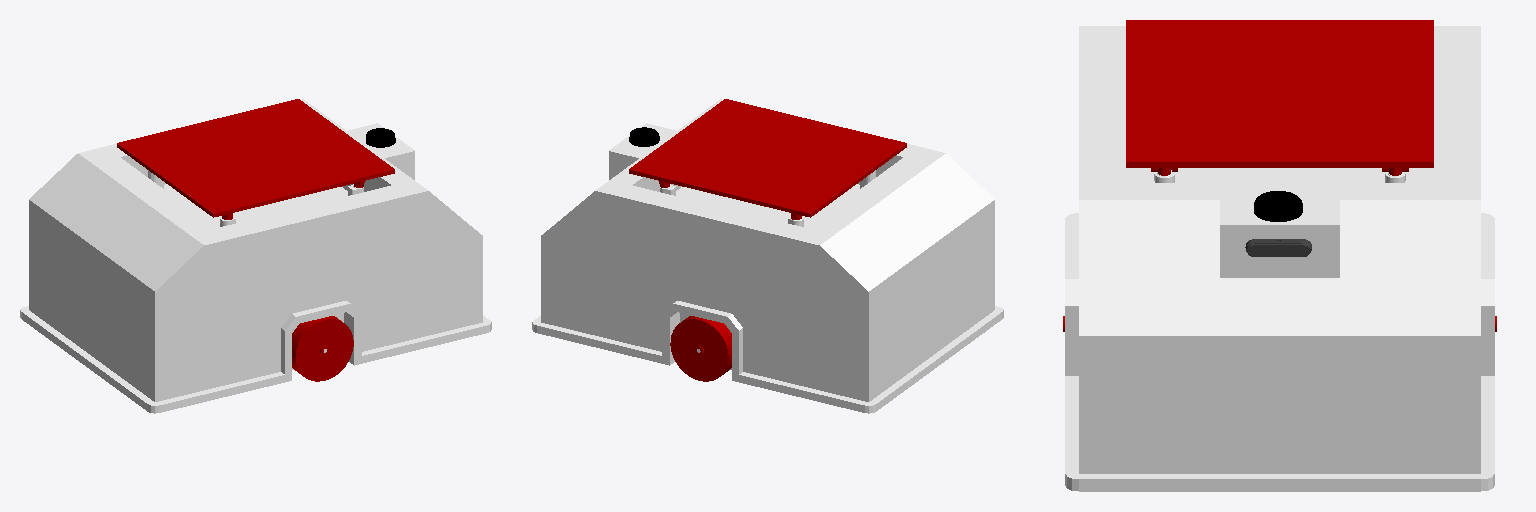
The robot description file, URDF, robot "polaris_v2":
<?xml version="1.0" encoding="utf-8"?>
<!-- This URDF was automatically created by SolidWorks to URDF Exporter! Originally created by [author] ([email redacted]) 
     Commit Version: 1.6.0-4-g7f85cfe  Build Version: 1.6.7995.38578
     For more information, please see http://wiki.ros.org/sw_urdf_exporter -->
<robot name="polaris_v2">
  <link name="base_link">
    <inertial>
      <origin xyz="-0.0015058 3.8814E-06 -0.021658" rpy="0 0 0" />
      <mass value="42.453" />
      <inertia
        ixx="2.349"
        ixy="-1.8915E-05"
        ixz="0.019247"
        iyy="3.7739"
        iyz="-1.7304E-13"
        izz="5.1007" />
    </inertial>
    <visual>
      <origin xyz="0 0 0" rpy="0 0 0" />
      <geometry>
        <mesh filename="package://polaris_v2/meshes/base_link.STL" />
      </geometry>
      <material name="White">
        <color rgba="1 1 1 1" />
      </material>
    </visual>
    <collision>
      <origin xyz="0 0 0" rpy="0 0 0" />
      <geometry>
        <mesh filename="package://polaris_v2/meshes/base_link.STL" />
      </geometry>
    </collision>
  </link>
  
  <link
    name="Lidar_Link">
    <inertial>
      <origin xyz="-0.029667 -6.8075E-05 0.0013582" rpy="0 0 0" />
      <mass value="0.055329" />
      <inertia
        ixx="1.8044E-05"
        ixy="3.8843E-08"
        ixz="-2.5259E-07"
        iyy="1.772E-05"
        iyz="-4.9929E-09"
        izz="3.2968E-05" />
    </inertial>
    <visual>
      <origin xyz="0 0 0" rpy="0 0 0" />
      <geometry>
        <mesh filename="package://polaris_v2/meshes/Lidar_Link.STL" />
      </geometry>
      <material name="Black">
        <color rgba="0 0 0 1" />
      </material>
    </visual>
    <collision>
      <origin xyz="0 0 0" rpy="0 0 0" />
      <geometry>
        <mesh filename="package://polaris_v2/meshes/Lidar_Link.STL" />
      </geometry>
    </collision>
  </link>
  <joint name="Lidar_Joint" type="fixed">
    <origin xyz="0.369 -0.0024957 0.20243" rpy="0 0 0" />
    <parent link="base_link" />
    <child link="Lidar_Link" />
    <axis xyz="0 0 0" />
  </joint>
  
  <link name="Camera_Link">
    <inertial>
      <origin xyz="-0.010371 -5.6426E-05 0.00029524" rpy="0 0 0" />
      <mass value="0.041708" />
      <inertia
        ixx="3.212E-05"
        ixy="6.2185E-09"
        ixz="-3.4137E-08"
        iyy="2.8235E-06"
        iyz="1.424E-08"
        izz="3.1609E-05" />
    </inertial>
    <visual>
      <origin xyz="0 0 0" rpy="0 0 0" />
      <geometry>
        <mesh filename="package://polaris_v2/meshes/Camera_Link.STL" />
      </geometry>
      <material name="Gray">
        <color rgba="0.29804 0.29804 0.29804 1" />
      </material>
    </visual>
    <collision>
      <origin xyz="0 0 0" rpy="0 0 0" />
      <geometry>
        <mesh filename="package://polaris_v2/meshes/Camera_Link.STL" />
      </geometry>
    </collision>
  </link>
  <joint name="Camera_Joint" type="fixed">
    <origin xyz="0.40728 -0.0018421 0.15651" rpy="0 0 0" />
    <parent link="base_link" />
    <child link="Camera_Link" />
    <axis xyz="0 0 0" />
  </joint>
  
  <link
    name="Left_Wheel_Link">
    <inertial>
      <origin
        xyz="-5.5511E-17 0 -2.0177E-06"
        rpy="0 0 0" />
      <mass
        value="1.9591" />
      <inertia
        ixx="0.0031213"
        ixy="1.516E-19"
        ixz="1.5917E-20"
        iyy="0.005714"
        iyz="2.081E-19"
        izz="0.0031213" />
    </inertial>
    <visual>
      <origin
        xyz="0 0 0"
        rpy="0 0 0" />
      <geometry>
        <mesh
          filename="package://polaris_v2/meshes/Left_Wheel_Link.STL" />
      </geometry>
      <material
        name="Red">
        <color
          rgba="0.75 0 0 1" />
      </material>
    </visual>
    <collision>
      <origin
        xyz="0 0 0"
        rpy="0 0 0" />
      <geometry>
        <mesh
          filename="package://polaris_v2/meshes/Left_Wheel_Link.STL" />
      </geometry>
    </collision>
  </link>
  <joint
    name="Left_Wheel_Joint"
    type="continuous">
    <origin
      xyz="0.0048092 0.29918 -0.15052"
      rpy="0 0 0" />
    <parent
      link="base_link" />
    <child
      link="Left_Wheel_Link" />
    <axis
      xyz="0 1 0" />
    <limit
      effort="20"
      velocity="15" />
    <dynamics
      damping="0.2"
      friction="0.2" />
  </joint>
  <link
    name="Right_Wheel_Link">
    <inertial>
      <origin
        xyz="5.5511E-17 0 -2.0177E-06"
        rpy="0 0 0" />
      <mass
        value="1.9591" />
      <inertia
        ixx="0.0031213"
        ixy="3.0227E-19"
        ixz="7.3953E-20"
        iyy="0.005714"
        iyz="7.1477E-19"
        izz="0.0031213" />
    </inertial>
    <visual>
      <origin
        xyz="0 0 0"
        rpy="0 0 0" />
      <geometry>
        <mesh
          filename="package://polaris_v2/meshes/Right_Wheel_Link.STL" />
      </geometry>
      <material
        name="Red">
        <color
          rgba="0.75 0 0 1" />
      </material>
    </visual>
    <collision>
      <origin
        xyz="0 0 0"
        rpy="0 0 0" />
      <geometry>
        <mesh
          filename="package://polaris_v2/meshes/Right_Wheel_Link.STL" />
      </geometry>
    </collision>
  </link>
  <joint
    name="Right_Wheel_Joint"
    type="continuous">
    <origin
      xyz="0.0051558 -0.29918 -0.15052"
      rpy="0 0 0" />
    <parent
      link="base_link" />
    <child
      link="Right_Wheel_Link" />
    <axis
      xyz="0 1 0" />
    <limit
      effort="20"
      velocity="1" />
    <dynamics
      damping="0.2"
      friction="0.2" />
  </joint>
  <link
    name="Lifting_Link">
    <inertial>
      <origin
        xyz="-8.9045E-13 -4.6074E-15 -0.019872"
        rpy="0 0 0" />
      <mass
        value="7.1663" />
      <inertia
        ixx="0.11259"
        ixy="6.0508E-07"
        ixz="-2.1825E-18"
        iyy="0.13245"
        iyz="3.3719E-17"
        izz="0.23898" />
    </inertial>
    <visual>
      <origin
        xyz="0 0 0"
        rpy="0 0 0" />
      <geometry>
        <mesh
          filename="package://polaris_v2/meshes/Lifting_Link.STL" />
      </geometry>
      <material
        name="Red">
        <color
          rgba="0.75 0 0 1" />
      </material>
    </visual>
    <collision>
      <origin
        xyz="0 0 0"
        rpy="0 0 0" />
      <geometry>
        <mesh
          filename="package://polaris_v2/meshes/Lifting_Link.STL" />
      </geometry>
    </collision>
  </link>
  <joint
    name="Lifting_Joint"
    type="prismatic">
    <origin
      xyz="0.0012405 0 0.23032"
      rpy="0 0 0" />
    <parent
      link="base_link" />
    <child
      link="Lifting_Link" />
    <axis
      xyz="0 0 1" />
    <limit
      lower="0"
      upper="0.2"
      effort="20"
      velocity="15" />
    <dynamics
      damping="0.2"
      friction="0.2" />
  </joint>
  <link
    name="CS1L">
    <inertial>
      <origin
        xyz="-0.0010118 -2.0245E-05 -0.0079289"
        rpy="0 0 0" />
      <mass
        value="0.012201" />
      <inertia
        ixx="1.3562E-06"
        ixy="1.3591E-08"
        ixz="7.1177E-08"
        iyy="6.7418E-07"
        iyz="1.4266E-09"
        izz="1.6594E-06" />
    </inertial>
    <visual>
      <origin
        xyz="0 0 0"
        rpy="0 0 0" />
      <geometry>
        <mesh
          filename="package://polaris_v2/meshes/CS1L.STL" />
      </geometry>
      <material
        name="Gray">
        <color
          rgba="0.89804 0.91765 0.92941 1" />
      </material>
    </visual>
    <collision>
      <origin
        xyz="0 0 0"
        rpy="0 0 0" />
      <geometry>
        <mesh
          filename="package://polaris_v2/meshes/CS1L.STL" />
      </geometry>
    </collision>
  </link>
  <joint
    name="CS1J"
    type="continuous">
    <origin
      xyz="0.38374 -0.2125 -0.19774"
      rpy="0 0 0" />
    <parent
      link="base_link" />
    <child
      link="CS1L" />
    <axis
      xyz="0 0 1" />
    <limit
      effort="20"
      velocity="15" />
    <dynamics
      damping="0.2"
      friction="0" />
  </joint>
  <link
    name="CW1L">
    <inertial>
      <origin
        xyz="-1.1102E-16 0 0"
        rpy="0 0 0" />
      <mass
        value="0.007684" />
      <inertia
        ixx="5.0437E-07"
        ixy="-1.7782E-09"
        ixz="7.051E-23"
        iyy="5.936E-07"
        iyz="9.8743E-24"
        izz="5.0433E-07" />
    </inertial>
    <visual>
      <origin
        xyz="0 0 0"
        rpy="0 0 0" />
      <geometry>
        <mesh
          filename="package://polaris_v2/meshes/CW1L.STL" />
      </geometry>
      <material
        name="Black">
        <color
          rgba="0 0 0 1" />
      </material>
    </visual>
    <collision>
      <origin
        xyz="0 0 0"
        rpy="0 0 0" />
      <geometry>
        <mesh
          filename="package://polaris_v2/meshes/CW1L.STL" />
      </geometry>
    </collision>
  </link>
  <joint
    name="CW1J"
    type="continuous">
    <origin
      xyz="0.0072628 0.00064477 -0.020775"
      rpy="0 0 0" />
    <parent
      link="CS1L" />
    <child
      link="CW1L" />
    <axis
      xyz="0 1 0" />
    <limit
      effort="20"
      velocity="15" />
    <dynamics
      damping="0.2"
      friction="0" />
  </joint>
  <link
    name="CS2L">
    <inertial>
      <origin
        xyz="0.00098381 -0.00023721 -0.0079289"
        rpy="0 0 0" />
      <mass
        value="0.012201" />
      <inertia
        ixx="1.319E-06"
        ixy="-1.556E-07"
        ixz="-6.9208E-08"
        iyy="7.1144E-07"
        iyz="1.6685E-08"
        izz="1.6594E-06" />
    </inertial>
    <visual>
      <origin
        xyz="0 0 0"
        rpy="0 0 0" />
      <geometry>
        <mesh
          filename="package://polaris_v2/meshes/CS2L.STL" />
      </geometry>
      <material
        name="Gray">
        <color
          rgba="0.89804 0.91765 0.92941 1" />
      </material>
    </visual>
    <collision>
      <origin
        xyz="0 0 0"
        rpy="0 0 0" />
      <geometry>
        <mesh
          filename="package://polaris_v2/meshes/CS2L.STL" />
      </geometry>
    </collision>
  </link>
  <joint
    name="CS2J"
    type="continuous">
    <origin
      xyz="0.38374 0.2125 -0.19774"
      rpy="0 0 0" />
    <parent
      link="base_link" />
    <child
      link="CS2L" />
    <axis
      xyz="0 0 1" />
    <limit
      effort="20"
      velocity="15" />
    <dynamics
      damping="0.2"
      friction="0" />
  </joint>
  <link
    name="CW2L">
    <inertial>
      <origin
        xyz="0 0 -5.5511E-17"
        rpy="0 0 0" />
      <mass
        value="0.007684" />
      <inertia
        ixx="5.0924E-07"
        ixy="2.0356E-08"
        ixz="-1.3859E-23"
        iyy="5.8873E-07"
        iyz="2.9859E-23"
        izz="5.0433E-07" />
    </inertial>
    <visual>
      <origin
        xyz="0 0 0"
        rpy="0 0 0" />
      <geometry>
        <mesh
          filename="package://polaris_v2/meshes/CW2L.STL" />
      </geometry>
      <material
        name="Black">
        <color
          rgba="0 0 0 1" />
      </material>
    </visual>
    <collision>
      <origin
        xyz="0 0 0"
        rpy="0 0 0" />
      <geometry>
        <mesh
          filename="package://polaris_v2/meshes/CW2L.STL" />
      </geometry>
    </collision>
  </link>
  <joint
    name="CW2J"
    type="continuous">
    <origin
      xyz="-0.0071887 0.0012196 -0.020775"
      rpy="0 0 0" />
    <parent
      link="CS2L" />
    <child
      link="CW2L" />
    <axis
      xyz="0 1 0" />
    <limit
      effort="20"
      velocity="15" />
    <dynamics
      damping="0.2"
      friction="0" />
  </joint>
  <link
    name="CS3L">
    <inertial>
      <origin
        xyz="-0.0010067 0.00010308 -0.0079289"
        rpy="0 0 0" />
      <mass
        value="0.012201" />
      <inertia
        ixx="1.3494E-06"
        ixy="-6.9225E-08"
        ixz="7.0821E-08"
        iyy="6.81E-07"
        iyz="-7.2487E-09"
        izz="1.6594E-06" />
    </inertial>
    <visual>
      <origin
        xyz="0 0 0"
        rpy="0 0 0" />
      <geometry>
        <mesh
          filename="package://polaris_v2/meshes/CS3L.STL" />
      </geometry>
      <material
        name="Gray">
        <color
          rgba="0.89804 0.91765 0.92941 1" />
      </material>
    </visual>
    <collision>
      <origin
        xyz="0 0 0"
        rpy="0 0 0" />
      <geometry>
        <mesh
          filename="package://polaris_v2/meshes/CS3L.STL" />
      </geometry>
    </collision>
  </link>
  <joint
    name="CS3J"
    type="continuous">
    <origin
      xyz="-0.38126 -0.2125 -0.19774"
      rpy="0 0 0" />
    <parent
      link="base_link" />
    <child
      link="CS3L" />
    <axis
      xyz="0 0 1" />
    <limit
      effort="20"
      velocity="15" />
    <dynamics
      damping="0.2"
      friction="0" />
  </joint>
  <link
    name="CW3L">
    <inertial>
      <origin
        xyz="-1.7347E-18 0 0"
        rpy="0 0 0" />
      <mass
        value="0.007684" />
      <inertia
        ixx="5.0526E-07"
        ixy="9.0562E-09"
        ixz="5.9133E-23"
        iyy="5.9271E-07"
        iyz="1.0492E-23"
        izz="5.0433E-07" />
    </inertial>
    <visual>
      <origin
        xyz="0 0 0"
        rpy="0 0 0" />
      <geometry>
        <mesh
          filename="package://polaris_v2/meshes/CW3L.STL" />
      </geometry>
      <material
        name="Black">
        <color
          rgba="0 0 0 1" />
      </material>
    </visual>
    <collision>
      <origin
        xyz="0 0 0"
        rpy="0 0 0" />
      <geometry>
        <mesh
          filename="package://polaris_v2/meshes/CW3L.STL" />
      </geometry>
    </collision>
  </link>
  <joint
    name="CW3J"
    type="continuous">
    <origin
      xyz="0.0072873 -0.00024416 -0.020775"
      rpy="0 0 0" />
    <parent
      link="CS3L" />
    <child
      link="CW3L" />
    <axis
      xyz="0 1 0" />
    <limit
      effort="20"
      velocity="15" />
    <dynamics
      damping="0.2"
      friction="0" />
  </joint>
  <link
    name="CS4L">
    <inertial>
      <origin
        xyz="-0.0010114 3.4348E-05 -0.0079289"
        rpy="0 0 0" />
      <mass
        value="0.012201" />
      <inertia
        ixx="1.3557E-06"
        ixy="-2.3217E-08"
        ixz="7.115E-08"
        iyy="6.747E-07"
        iyz="-2.4138E-09"
        izz="1.6594E-06" />
    </inertial>
    <visual>
      <origin
        xyz="0 0 0"
        rpy="0 0 0" />
      <geometry>
        <mesh
          filename="package://polaris_v2/meshes/CS4L.STL" />
      </geometry>
      <material
        name="Gray">
        <color
          rgba="0.89804 0.91765 0.92941 1" />
      </material>
    </visual>
    <collision>
      <origin
        xyz="0 0 0"
        rpy="0 0 0" />
      <geometry>
        <mesh
          filename="package://polaris_v2/meshes/CS4L.STL" />
      </geometry>
    </collision>
  </link>
  <joint
    name="CS4J"
    type="continuous">
    <origin
      xyz="-0.38126 0.2125 -0.19774"
      rpy="0 0 0" />
    <parent
      link="base_link" />
    <child
      link="CS4L" />
    <axis
      xyz="0 0 1" />
    <limit
      effort="20"
      velocity="15" />
    <dynamics
      damping="0.2"
      friction="0" />
  </joint>
  <link
    name="CW4L">
    <inertial>
      <origin
        xyz="0 0 -5.5511E-17"
        rpy="0 0 0" />
      <mass
        value="0.007684" />
      <inertia
        ixx="5.0444E-07"
        ixy="3.0371E-09"
        ixz="2.0261E-23"
        iyy="5.9353E-07"
        iyz="-1.5601E-24"
        izz="5.0433E-07" />
    </inertial>
    <visual>
      <origin
        xyz="0 0 0"
        rpy="0 0 0" />
      <geometry>
        <mesh
          filename="package://polaris_v2/meshes/CW4L.STL" />
      </geometry>
      <material
        name="Black">
        <color
          rgba="0 0 0 1" />
      </material>
    </visual>
    <collision>
      <origin
        xyz="0 0 0"
        rpy="0 0 0" />
      <geometry>
        <mesh
          filename="package://polaris_v2/meshes/CW4L.STL" />
      </geometry>
    </collision>
  </link>
  <joint
    name="CW4J"
    type="continuous">
    <origin
      xyz="0.007287 0.00025217 -0.020775"
      rpy="0 0 0" />
    <parent
      link="CS4L" />
    <child
      link="CW4L" />
    <axis
      xyz="0 1 0" />
    <limit
      effort="20"
      velocity="15" />
    <dynamics
      damping="0.2"
      friction="0" />
  </joint>
  
  <transmission name="Lifting_Link_trans">
    <type>transmission_interface/SimpleTransmission</type>
    <joint name="Lifting_Joint">
      <hardwareInterface>hardware_interface/PositionJointInterface</hardwareInterface>
    </joint>
    <actuator name="Lifting_Link_motor">
      <hardwareInterface>hardware_interface/PositionJointInterface</hardwareInterface>
      <mechanicalReduction>1</mechanicalReduction>
      <!-- Lineer motor için eklenebilecek parametreler -->
      <max_force>100</max_force>
      <max_velocity>0.5</max_velocity>
    </actuator>  
  </transmission>
  
  <gazebo>
    <plugin name="gazebo_ros_control" filename="libgazebo_ros_control.so">
      <robotNamespace>/</robotNamespace>
    </plugin>
  </gazebo>

  <!--Gazebo ortamında color, dumping(mu2), friction(mu1) gibi etkenleri tanımlamak amacıyla aşağıdaki kod dizilimi kullanılmıştır.-->
  <gazebo reference="base_link">
    <mu1>0.2</mu1>
    <mu2>0.2</mu2>
    <material>Gazebo/White</material>
  </gazebo>  

  <gazebo reference="Lidar_Link">
    <mu1>0.2</mu1>
    <mu2>0.2</mu2>
    <material>Gazebo/Black</material>
  </gazebo>  

  <gazebo reference="Camera_Link">
    <mu1>0.2</mu1>
    <mu2>0.2</mu2>
    <material>Gazebo/Gray</material>
  </gazebo>

  <gazebo reference="Lifting_Link">
    <mu1>0.2</mu1>
    <mu2>0.2</mu2>
    <material>Gazebo/Red</material>
  </gazebo>
  
  <gazebo reference="Left_Wheel_Link">
    <mu1>0.2</mu1>
    <mu2>0.2</mu2>
    <material>Gazebo/Red</material>
  </gazebo>
  
  <gazebo reference="Right_Wheel_Link">
    <mu1>0.2</mu1>
    <mu2>0.2</mu2>
    <material>Gazebo/Red</material>
  </gazebo>

  <gazebo reference="CS1L">
    <mu1>0</mu1>
    <mu2>0</mu2>
    <material>Gazebo/Gray</material>
  </gazebo>

  <gazebo reference="CS2L">
    <mu1>0</mu1>
    <mu2>0</mu2>
    <material>Gazebo/Gray</material>
  </gazebo>
  
  <gazebo reference="CS3L">
    <mu1>0</mu1>
    <mu2>0</mu2>
    <material>Gazebo/Gray</material>
  </gazebo>

  <gazebo reference="CS4L">
    <mu1>0</mu1>
    <mu2>0</mu2>
    <material>Gazebo/Gray</material>
  </gazebo>

  <gazebo reference="CW1L">
    <mu1>0</mu1>
    <mu2>0</mu2>
    <material>Gazebo/Black</material>
  </gazebo>

  <gazebo reference="CW2L">
    <mu1>0</mu1>
    <mu2>0</mu2>
    <material>Gazebo/Black</material>
  </gazebo>
  
  <gazebo reference="CW3L">
    <mu1>0</mu1>
    <mu2>0</mu2>
    <material>Gazebo/Black</material>
  </gazebo>

  <gazebo reference="CW4L">
    <mu1>0</mu1>
    <mu2>0</mu2>
    <material>Gazebo/Black</material>
  </gazebo>
    
<gazebo>
  <plugin name="differential_drive_controller" filename="libgazebo_ros_diff_drive.so">
    <updateRate>100.0</updateRate>
    <leftJoint>Left_Wheel_Joint</leftJoint>
    <rightJoint>Right_Wheel_Joint</rightJoint>
    <wheelSeparation>0.5</wheelSeparation>
    <wheelDiameter>0.17</wheelDiameter>
    <wheelAcceleration>1.0</wheelAcceleration>
    <wheelTorque>20</wheelTorque>
    <commandTopic>cmd_vel</commandTopic>
    <odometryTopic>odom</odometryTopic>
    <odometryFrame>odom</odometryFrame>
    <robotBaseFrame>base_link</robotBaseFrame>
    <publishWheelTF>false</publishWheelTF> <!-- Devre dışı bırakıldı -->
    <publishOdom>true</publishOdom>
    <publishWheelJointState>true</publishWheelJointState>
    <odometrySource>ENCODER</odometrySource>
    <rosDebugLevel>na</rosDebugLevel>
    <publishOdomTF>false</publishOdomTF> <!-- Devre dışı bırakıldı -->
    <publishTf>1</publishTf> <!-- Sadece bu etkin -->
    <max_velocity>15.0</max_velocity>
    <max_acceleration>15.0</max_acceleration>
    <covariance_x>0.0001</covariance_x>
    <covariance_y>0.0001</covariance_y>
    <covariance_yaw>0.01</covariance_yaw>
  </plugin>
</gazebo>

  
  
</robot>

--- What the picture shows (computed from the rendered views, not written in the file) ---
Views: 3 orthographic renders of the robot side by side, from view 1: azimuth 30°, elevation 25°; view 2: azimuth 150°, elevation 25°; view 3: azimuth 270°, elevation 25°.
Robot: polaris_v2 — 14 links, 13 joints (10 continuous, 1 prismatic, 2 fixed); root link base_link; default pose: all joints at 0.
Visible links, largest first — view 1: base_link, Lifting_Link, Right_Wheel_Link; view 2: base_link, Lifting_Link, Left_Wheel_Link; view 3: base_link, Lifting_Link, Lidar_Link, Camera_Link.
Link boxes in pixels (<box>): base_link: <box>20,98,491,413</box>; Lifting_Link: <box>117,99,394,219</box>; Right_Wheel_Link: <box>292,316,353,381</box>; base_link: <box>532,98,1003,413</box>; Lifting_Link: <box>629,99,906,219</box>; Left_Wheel_Link: <box>670,316,731,381</box>; base_link: <box>1065,26,1494,491</box>; Lifting_Link: <box>1126,20,1433,175</box>; Lidar_Link: <box>1254,191,1302,221</box>; Camera_Link: <box>1245,239,1311,256</box>.
Bounding box of the posed robot: 0.94 × 0.6464 × 0.4608 m (x, y, z).
Meshes: 14 distinct files referenced, 14 mesh visuals loaded (14 binary STL).
